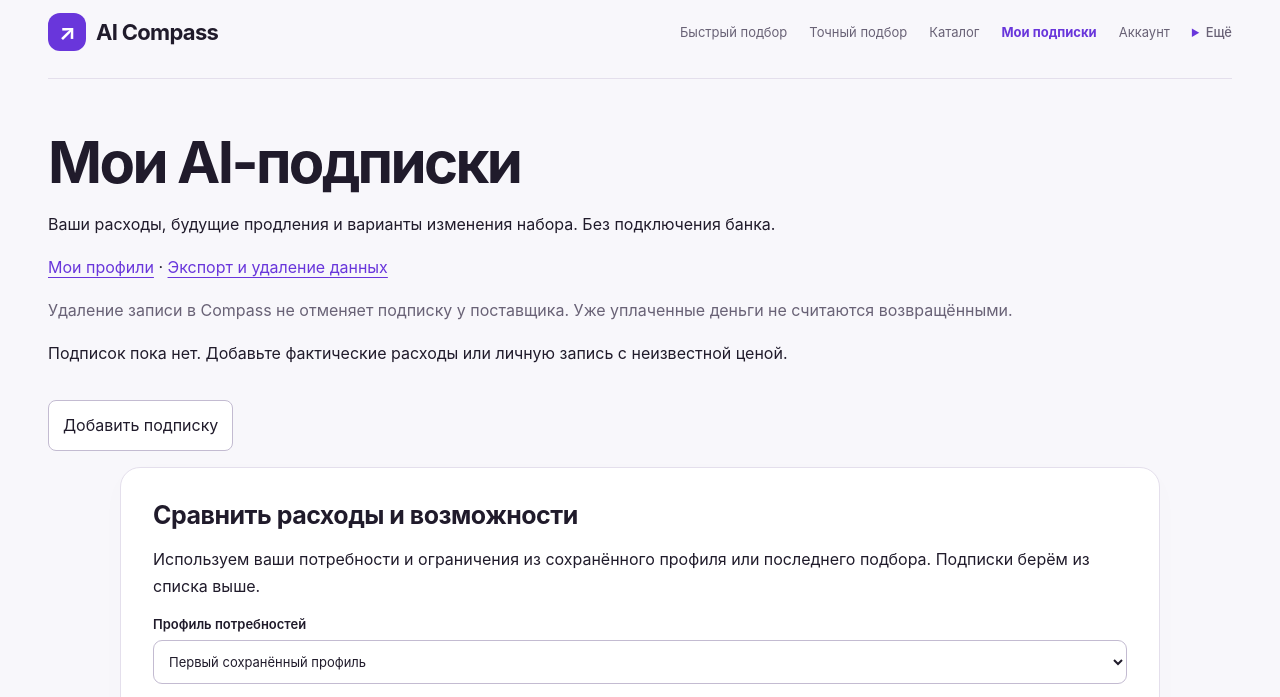
Test case: empty private ledger and unknown defaults, no browser storage
Expected: the text "Подписок пока нет" is shown, x1=48 y1=343 x2=788 y2=363
Click the button "Добавить подписку".
click(141, 425)  # box x1=48 y1=400 x2=233 y2=451
(page scrolled)
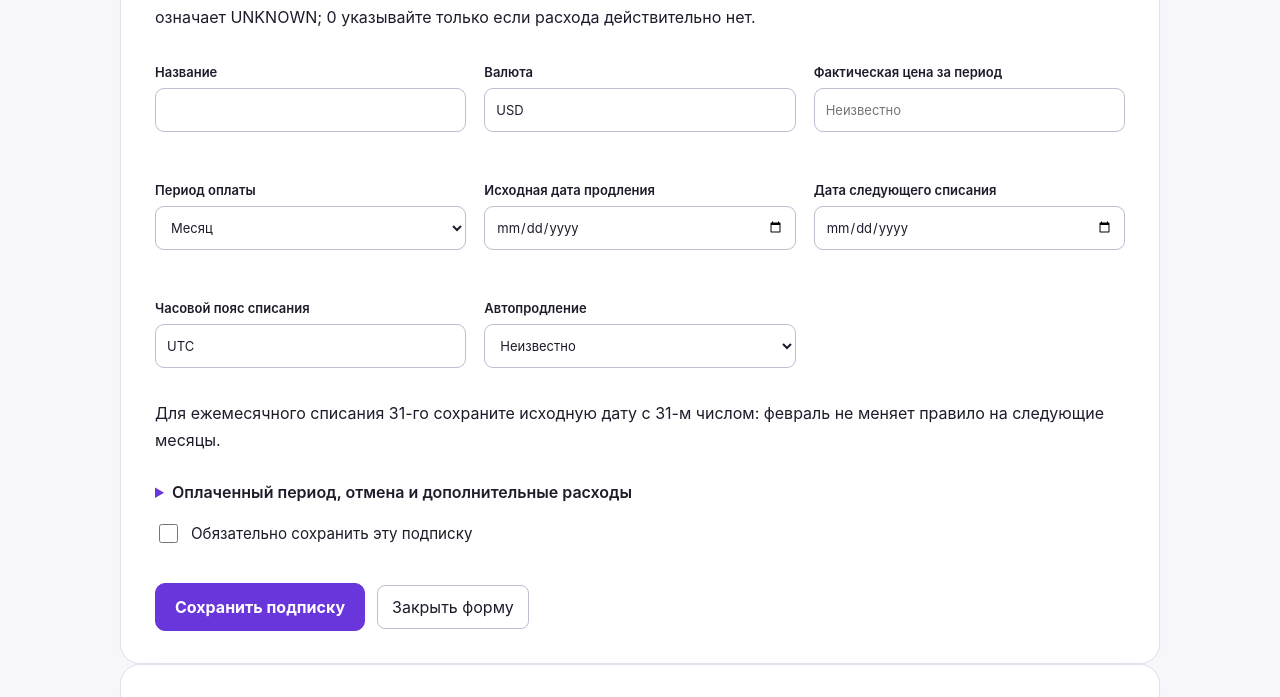
Now the field labelled "Фактическая цена за период" is empty, box x1=814 y1=88 x2=1125 y2=132
Now the dropdown labelled "Автопродление" shows "Неизвестно", box x1=484 y1=324 x2=796 y2=368
